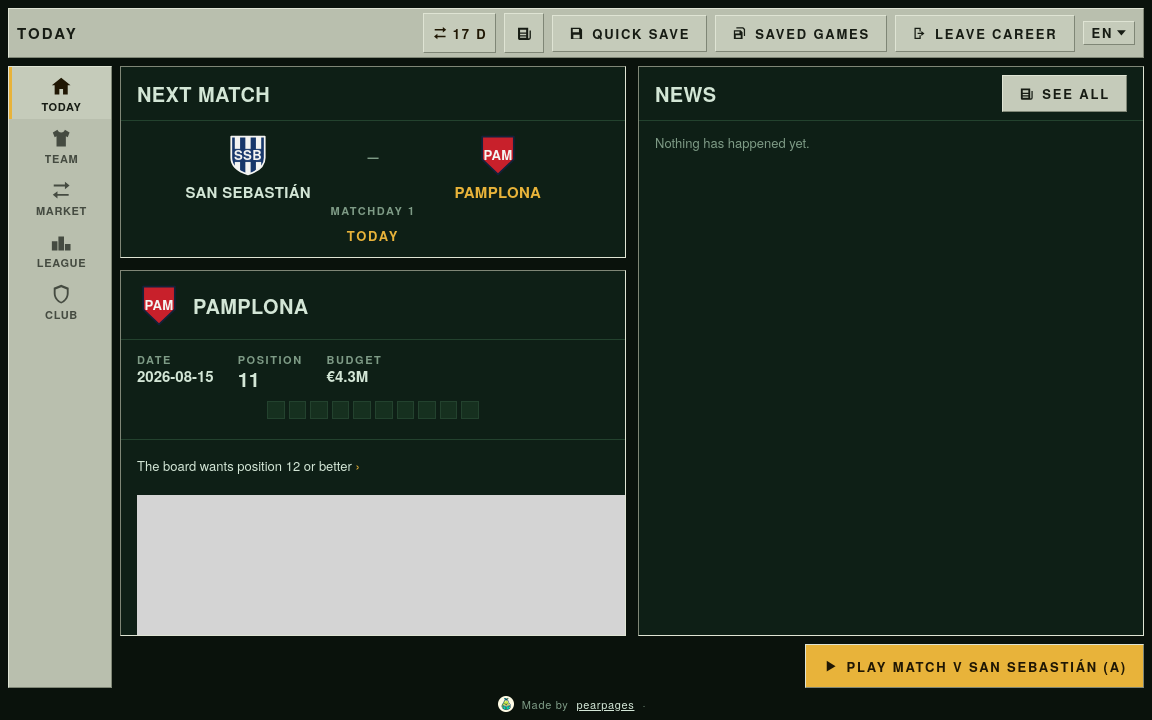
it: Caja › shows every ledger line, so a ninth cannot go unreported
This screenshot has width=1152, height=720.
Click the button "Club" at (60, 301), box [9,275,111,327]
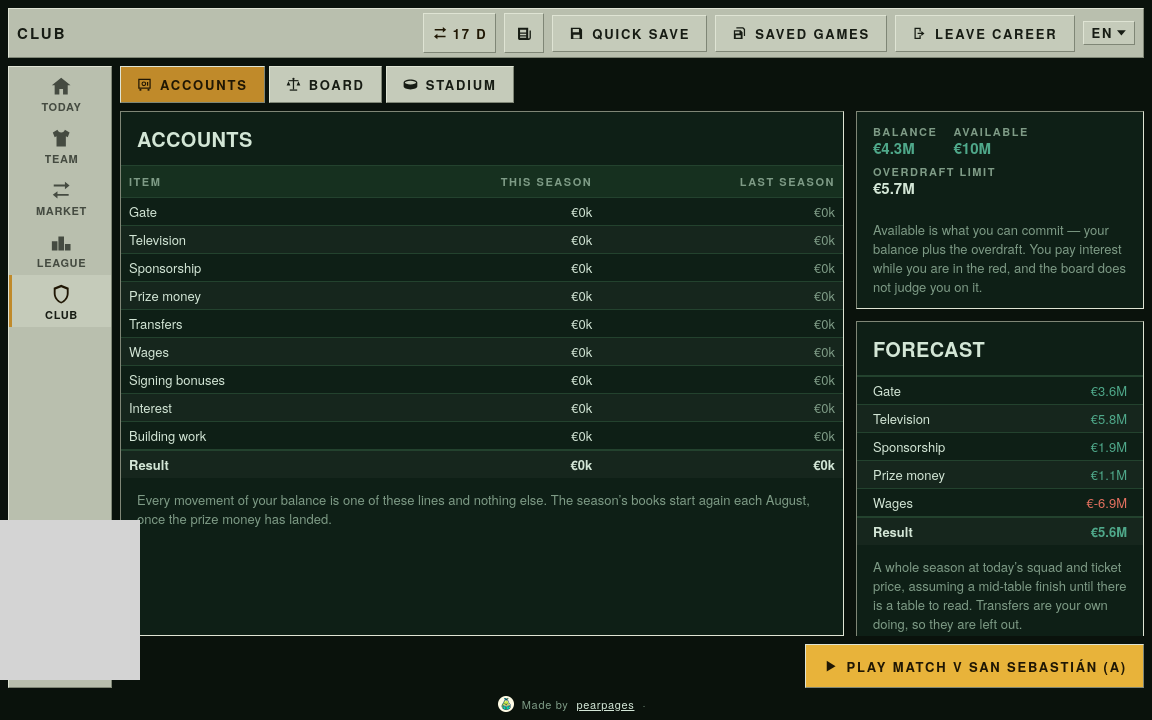
Now the column heading "Gate" below "Item" is shown, box [129,202,157,221]
Now the column heading "Television" below "Item" is shown, box [129,230,186,249]
Now the column heading "Sponsorship" below "Item" is shown, box [129,258,201,277]
